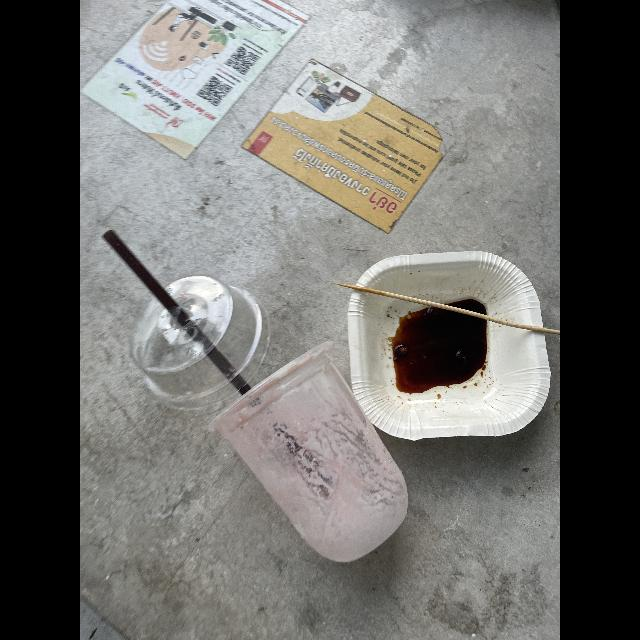cardboard_bowl: (348, 251, 550, 443)
plastic_cup_lid: (124, 270, 266, 414)
stick: (328, 280, 560, 338)
straw: (206, 336, 418, 570), (102, 226, 255, 394)
